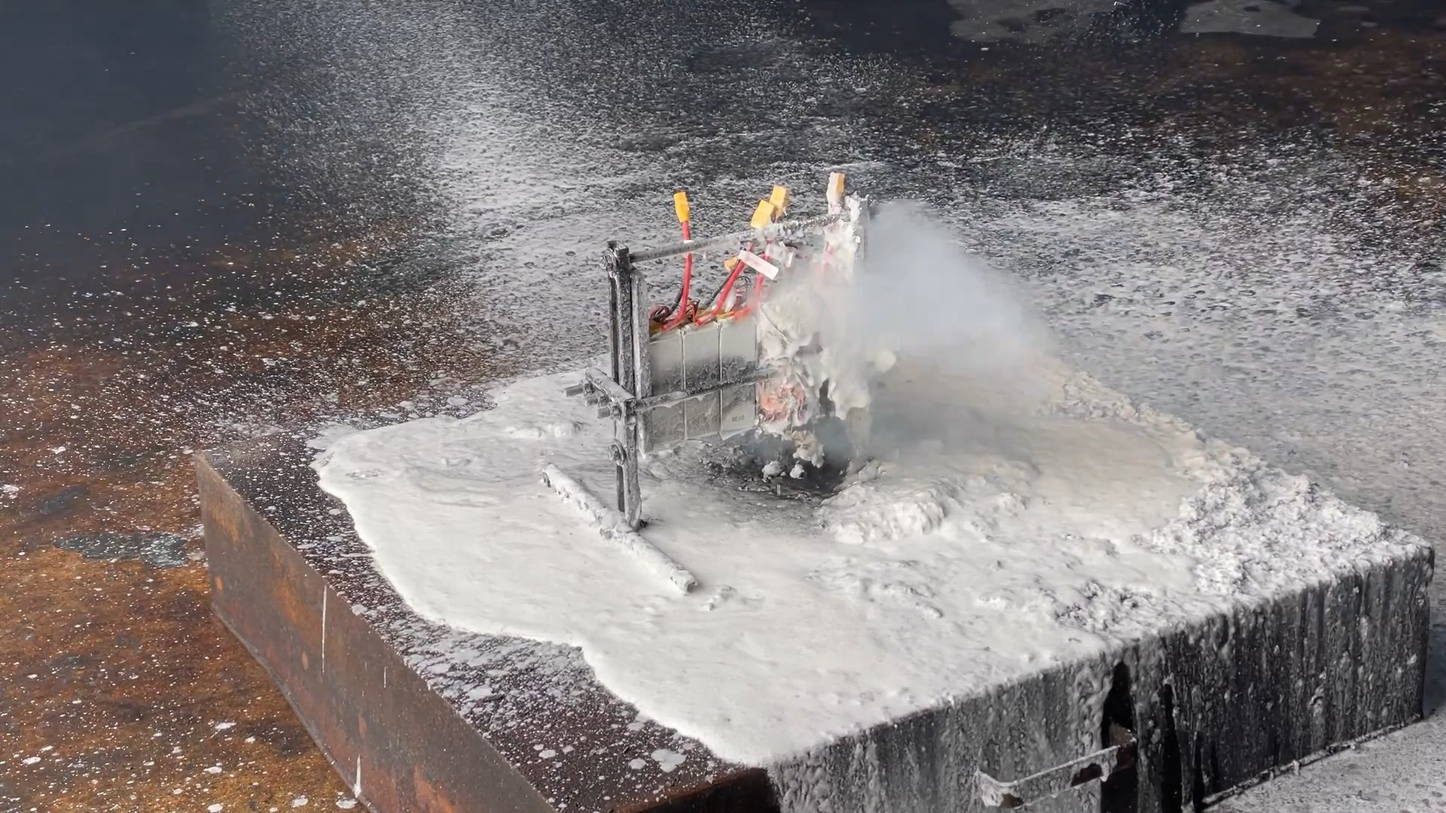smoke: (810, 189, 1097, 458)
